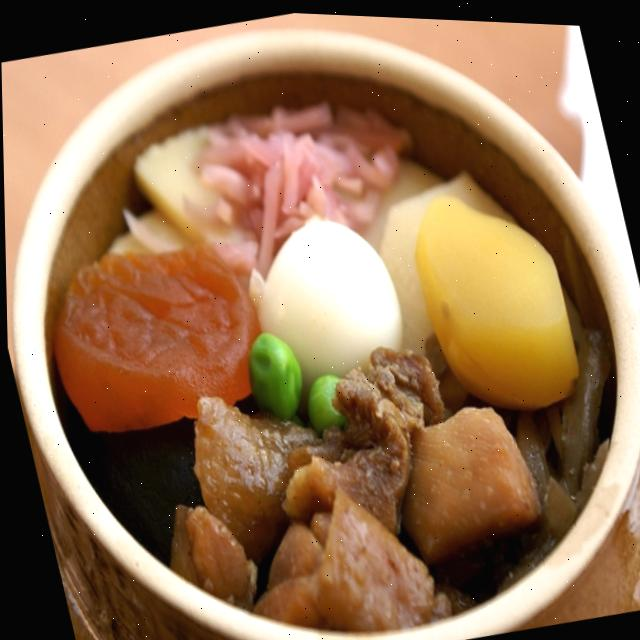熟制海鲜: (255, 78, 640, 639)
